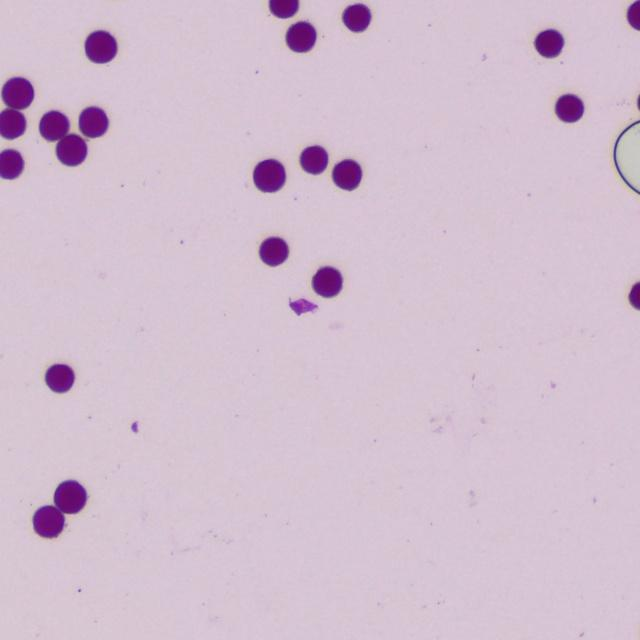viable: (54, 480, 86, 513), (85, 30, 116, 62), (254, 160, 285, 192), (2, 77, 33, 109), (56, 134, 87, 165), (39, 110, 69, 140), (286, 22, 316, 52), (79, 106, 108, 137), (33, 506, 64, 535), (332, 159, 361, 190), (312, 267, 341, 297), (45, 363, 74, 392), (300, 146, 328, 174), (555, 94, 583, 122), (535, 29, 563, 57), (0, 109, 26, 139), (260, 237, 287, 265), (343, 4, 371, 31), (0, 150, 23, 178), (269, 0, 298, 18), (628, 1, 639, 29), (629, 282, 639, 309)
